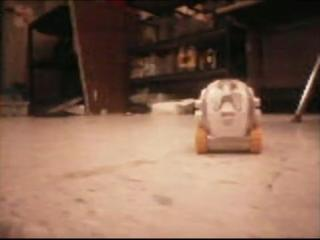cozmo: (192, 77, 264, 154)
